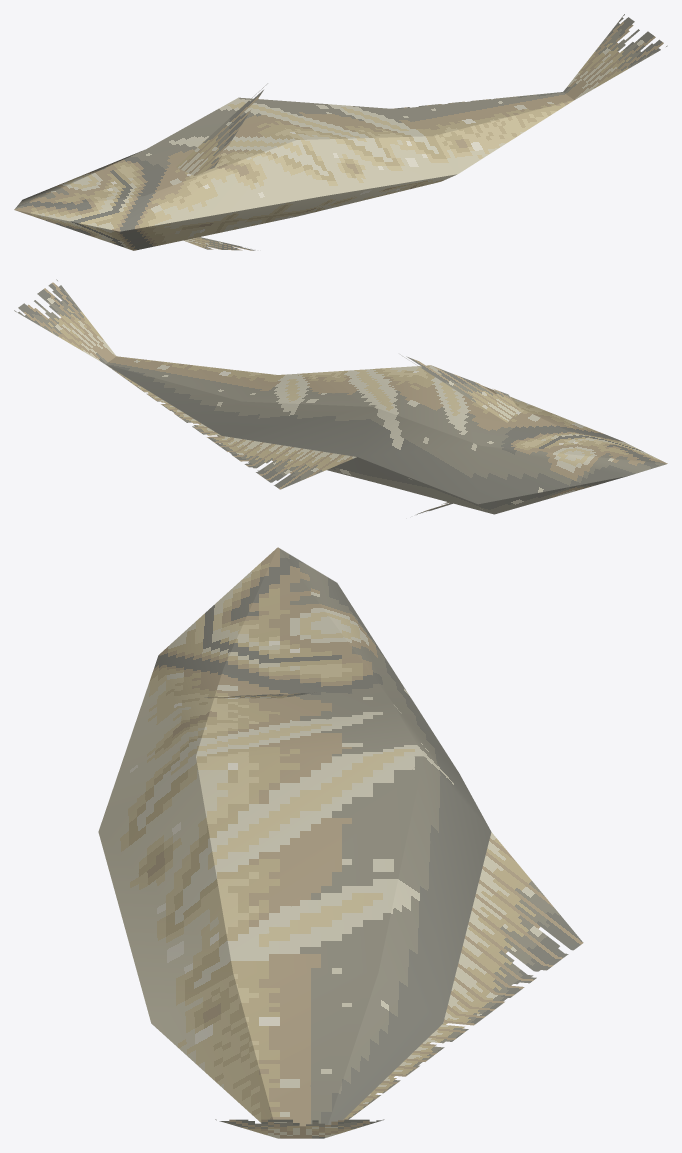
File: 0530_Grilled_Fish.glb
3 views of the same model, one above another, from view 1: azimuth 30°, elevation 25°; view 2: azimuth 150°, elevation 25°; view 3: azimuth 270°, elevation 25° (orthographic). The views are drawn at different scales.
Visible parts, largest first — view 1: part_0; view 2: part_0; view 3: part_0.
Boxes of the visible parts, bbox=[...] form: part_0: bbox=[14, 14, 667, 250]; part_0: bbox=[14, 279, 667, 514]; part_0: bbox=[98, 547, 583, 1138].
Bounding box in the file's own units: 0.2775 × 0.069 × 0.093.
Materials: 1 (1 with a texture image).
